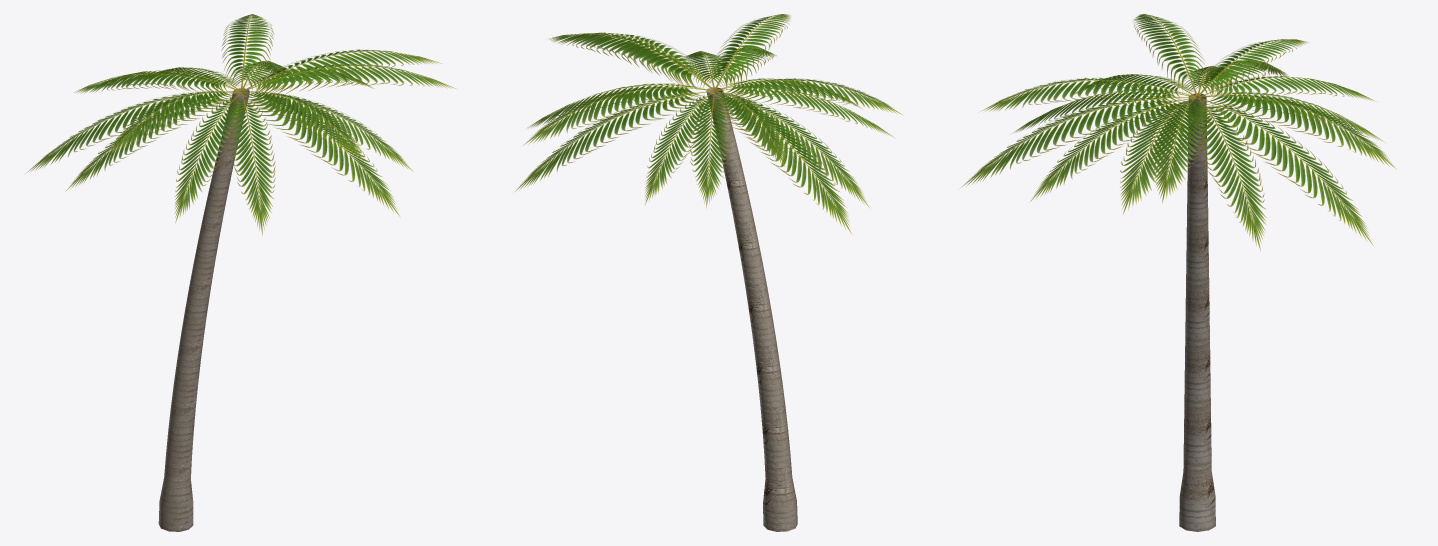
The model's file is palm_01.gltf.
3 views of the same model, side by side, from view 1: azimuth 30°, elevation 25°; view 2: azimuth 150°, elevation 25°; view 3: azimuth 270°, elevation 25° (orthographic). The views are drawn at different scales.
Visible parts, largest first — view 1: Fronds, Trunk; view 2: Fronds, Trunk; view 3: Fronds, Trunk.
Part boxes in pixels (<box>): Fronds: <box>26,14,455,235</box>; Trunk: <box>158,88,249,531</box>; Fronds: <box>515,14,902,233</box>; Trunk: <box>706,87,797,531</box>; Fronds: <box>961,14,1395,250</box>; Trunk: <box>1179,93,1215,531</box>.
Bounding box in the file's own units: 8.29 × 8.94 × 8.01.
2 materials, 2 textured.
